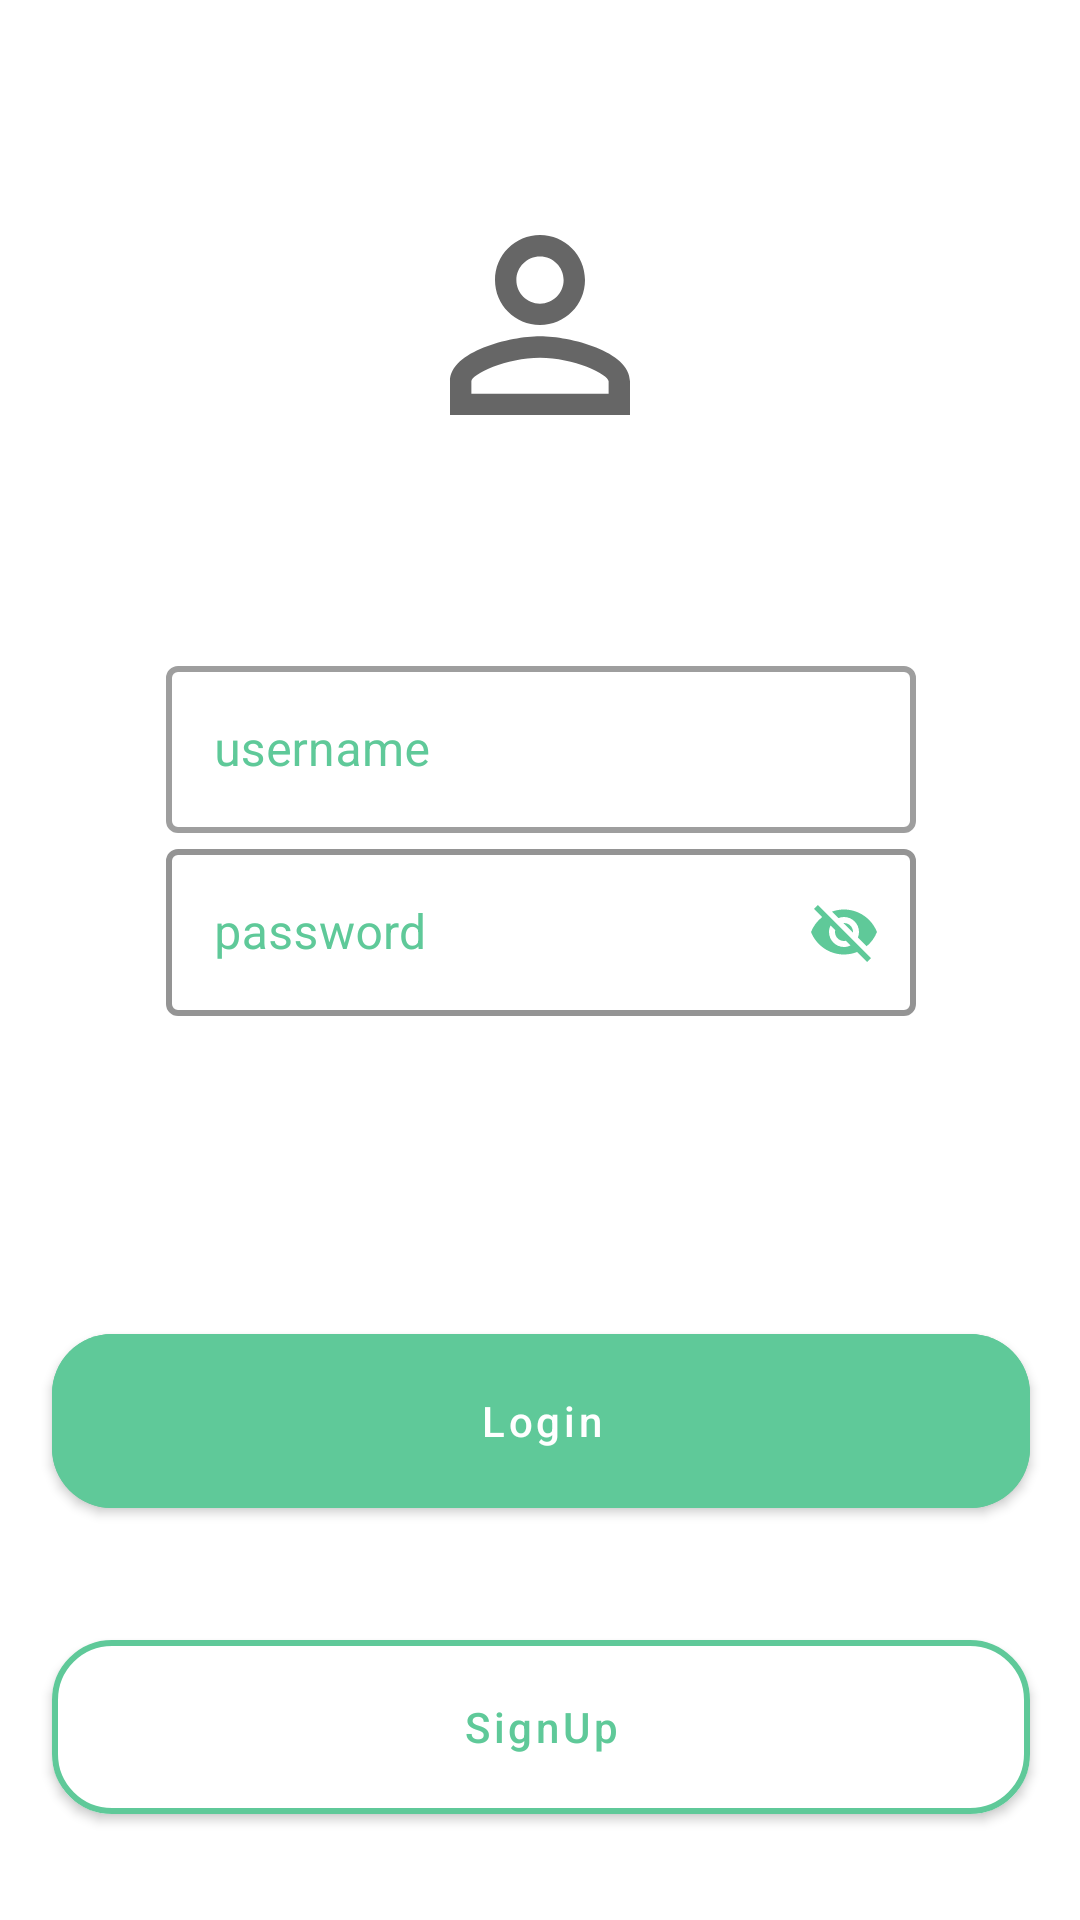

Named icons in this screenshot (1080×1920) and their bounding boxes, {"x1": x1, "y1": y1, "x2": x2, "y2": y2}:
person: {"x1": 450, "y1": 235, "x2": 630, "y2": 415}
